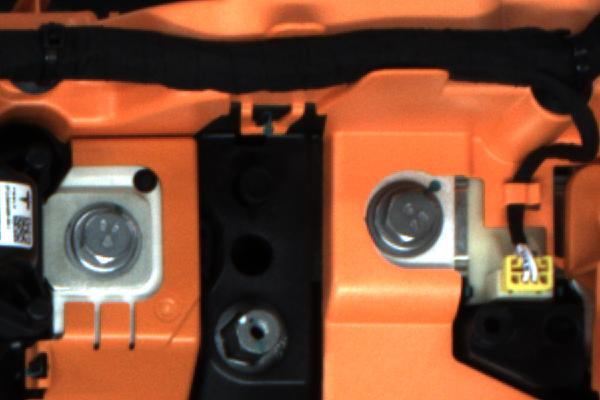nut_b: (362, 171, 451, 263), (54, 197, 149, 281)
